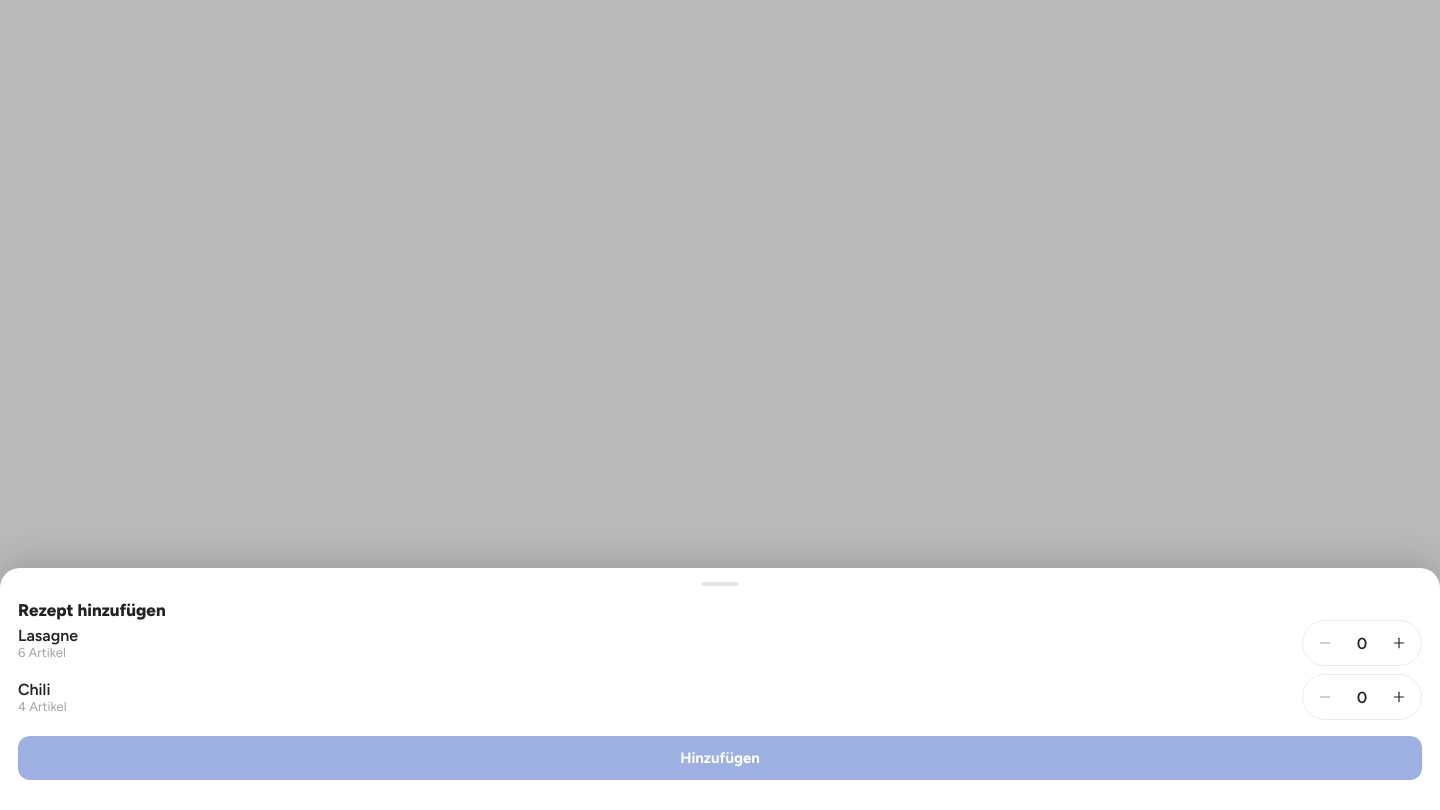
Test: ApplyRecipeSheet › keeps „Hinzufügen“ disabled until something is actually chosen
The width and height of the screenshot is (1440, 810).
Expected: the button "Hinzufügen" is disabled, [18,736,1422,780]
Step 1. Click the button named "Anzahl Lasagne erhöhen" → (1399, 643), box [1377,621,1421,665]
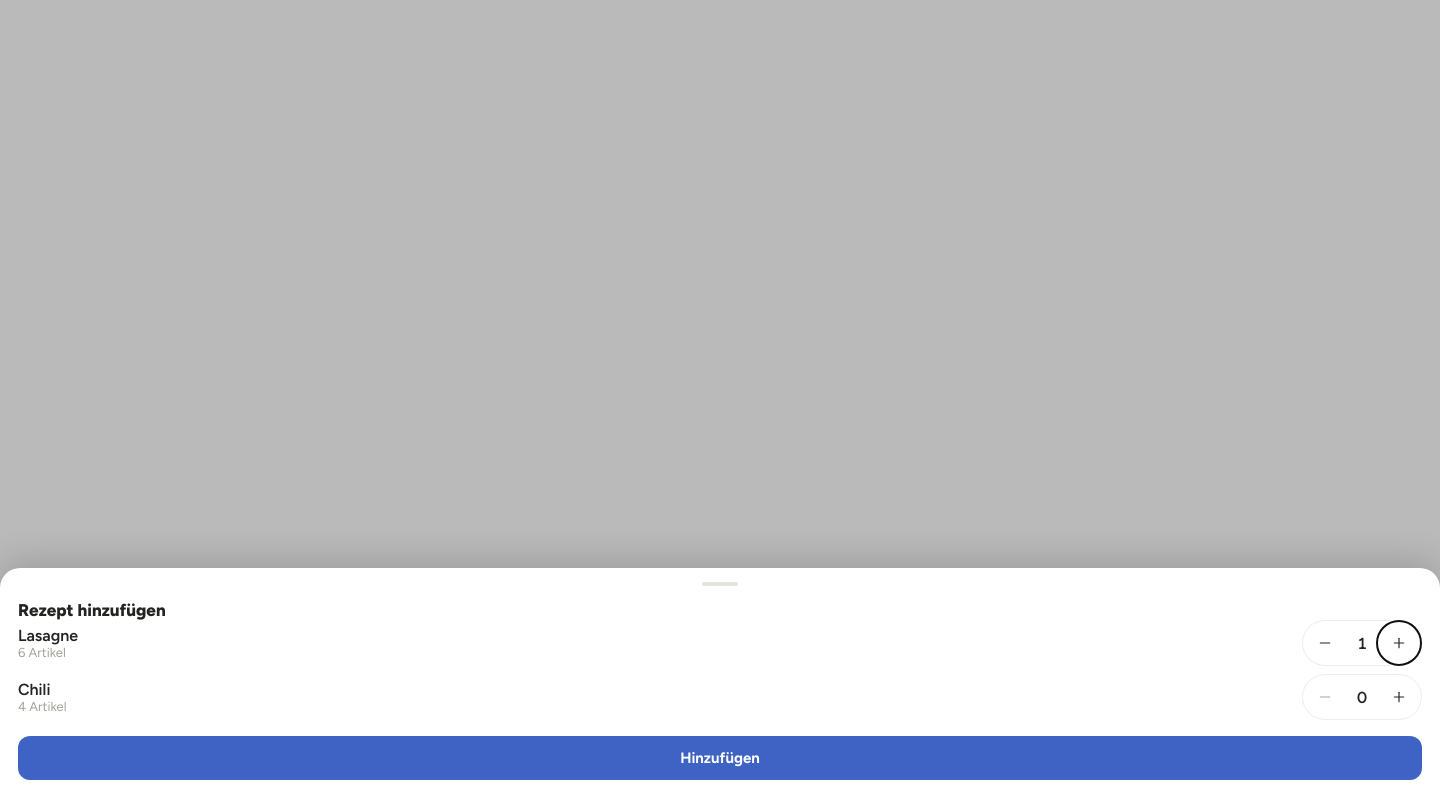
Result: the button "Hinzufügen" is enabled at [18,736,1422,780]
